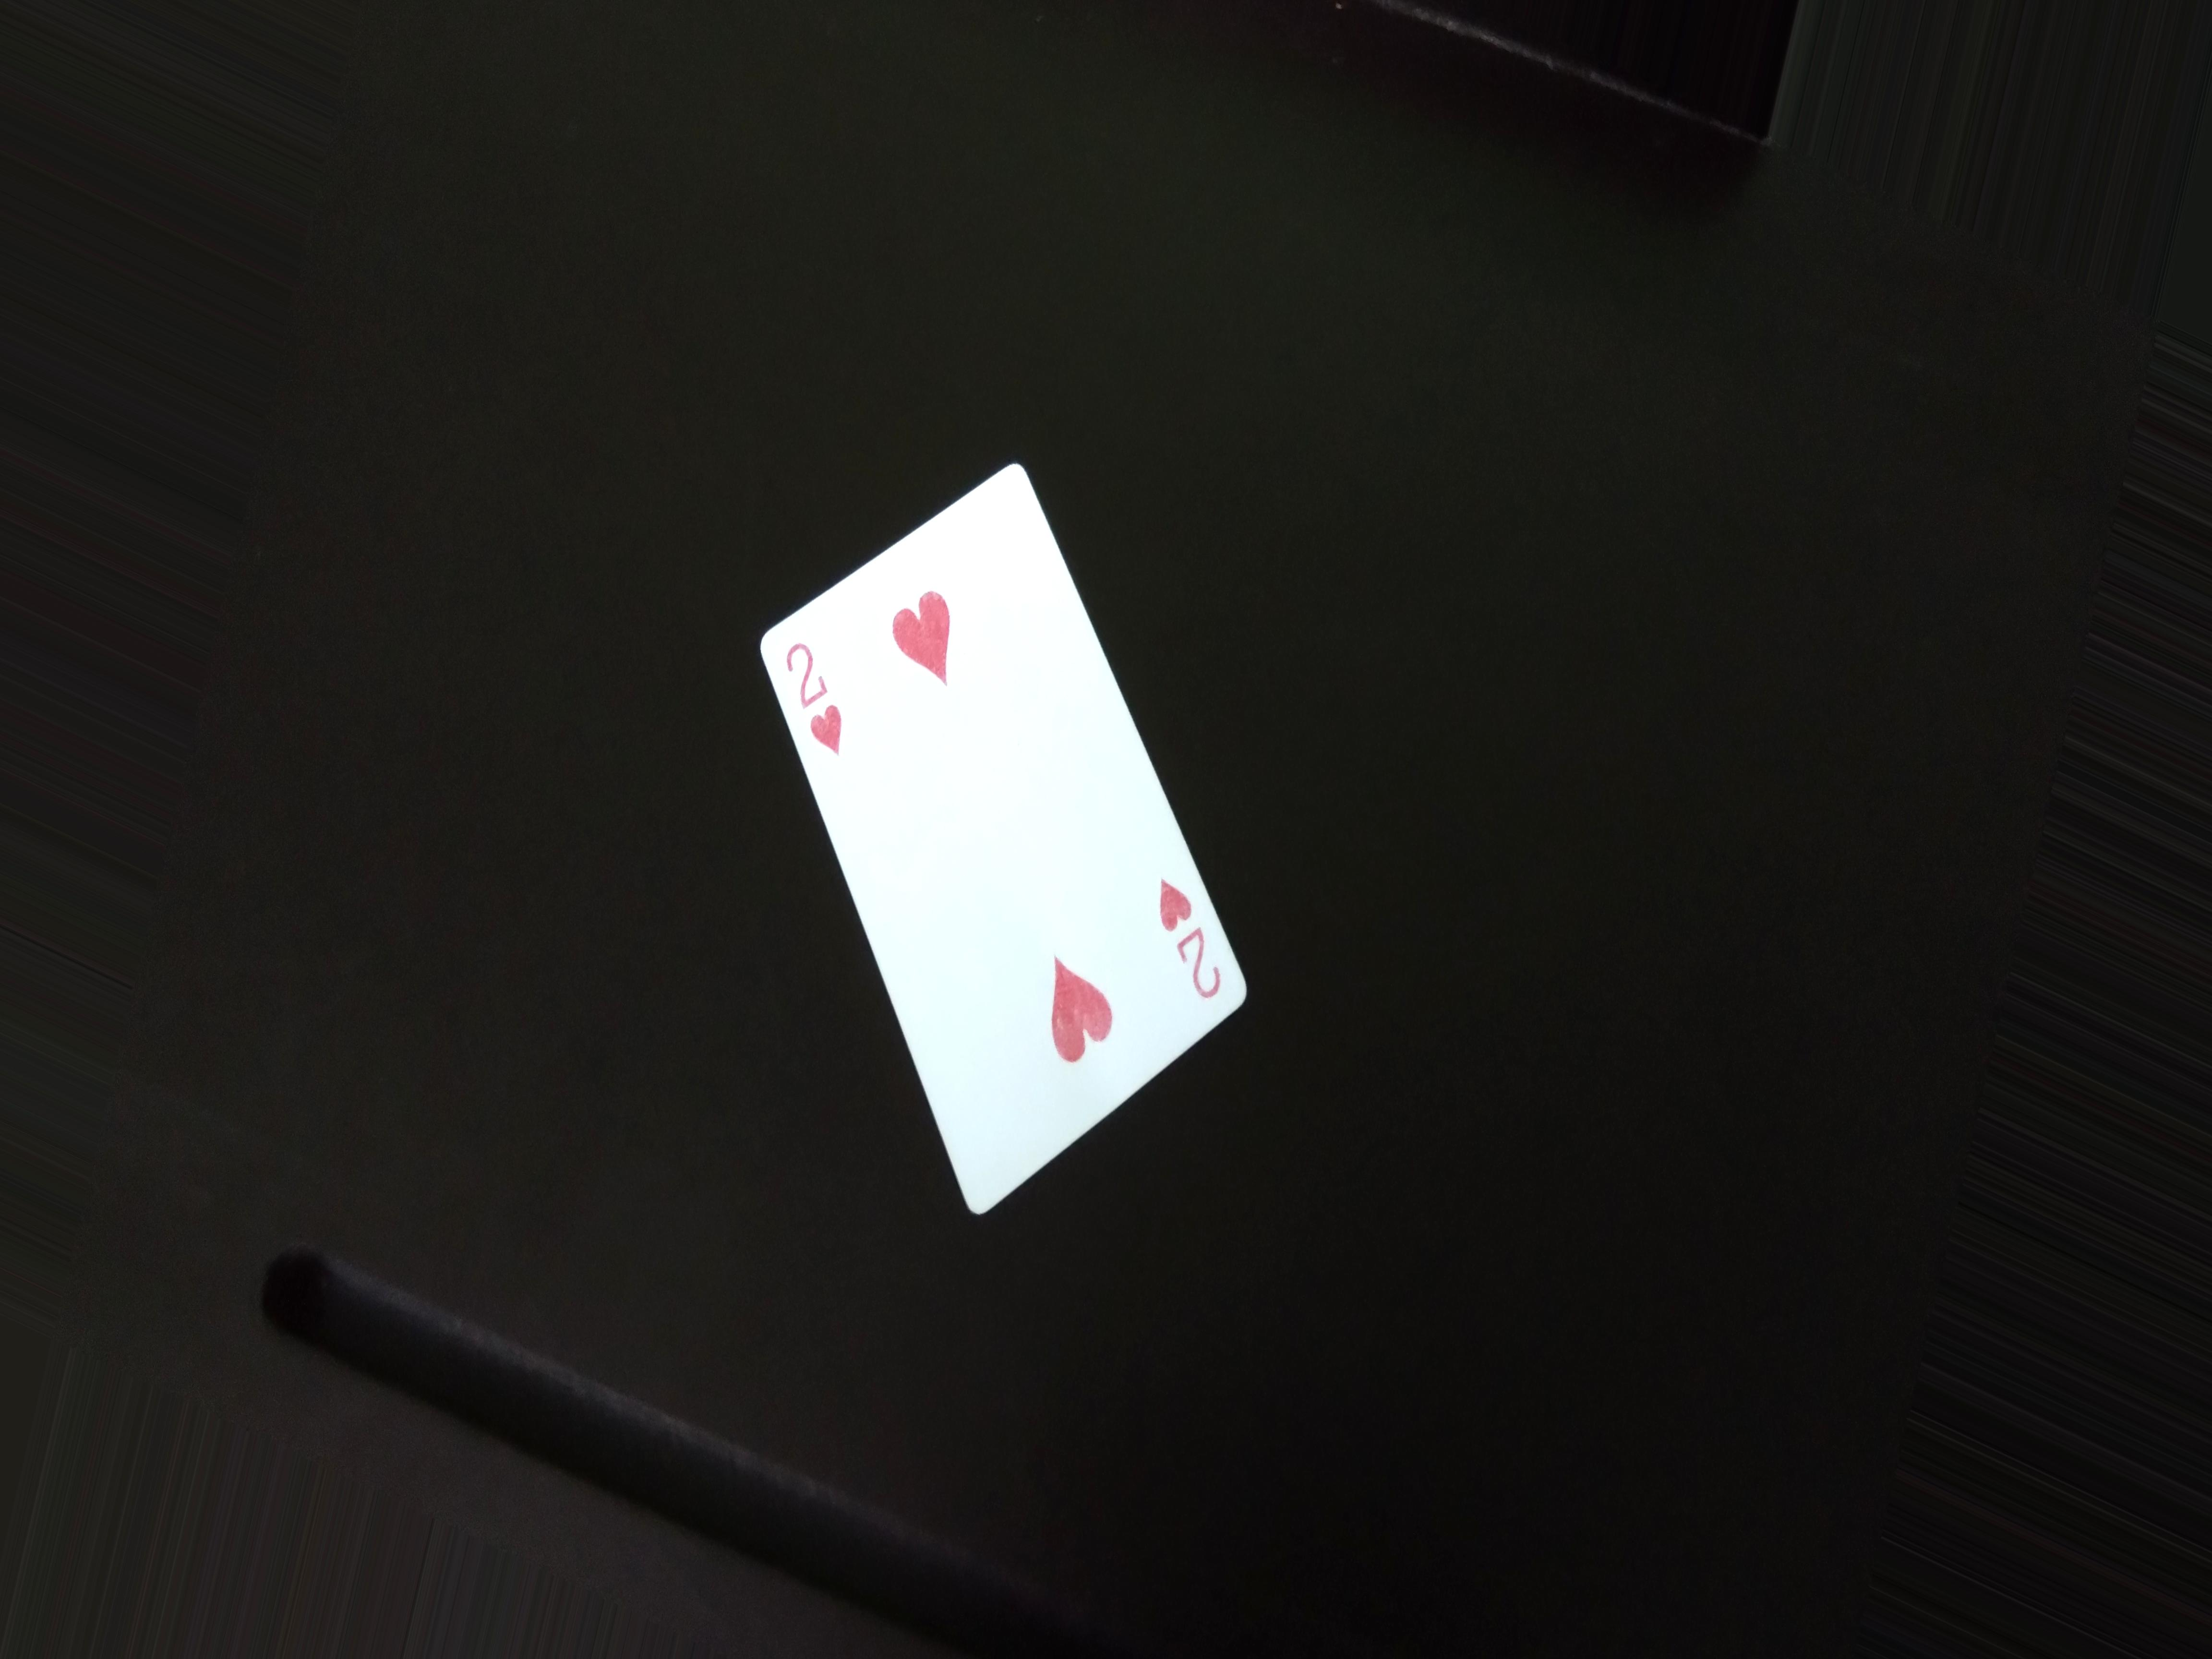2H: (775, 629, 866, 762)
